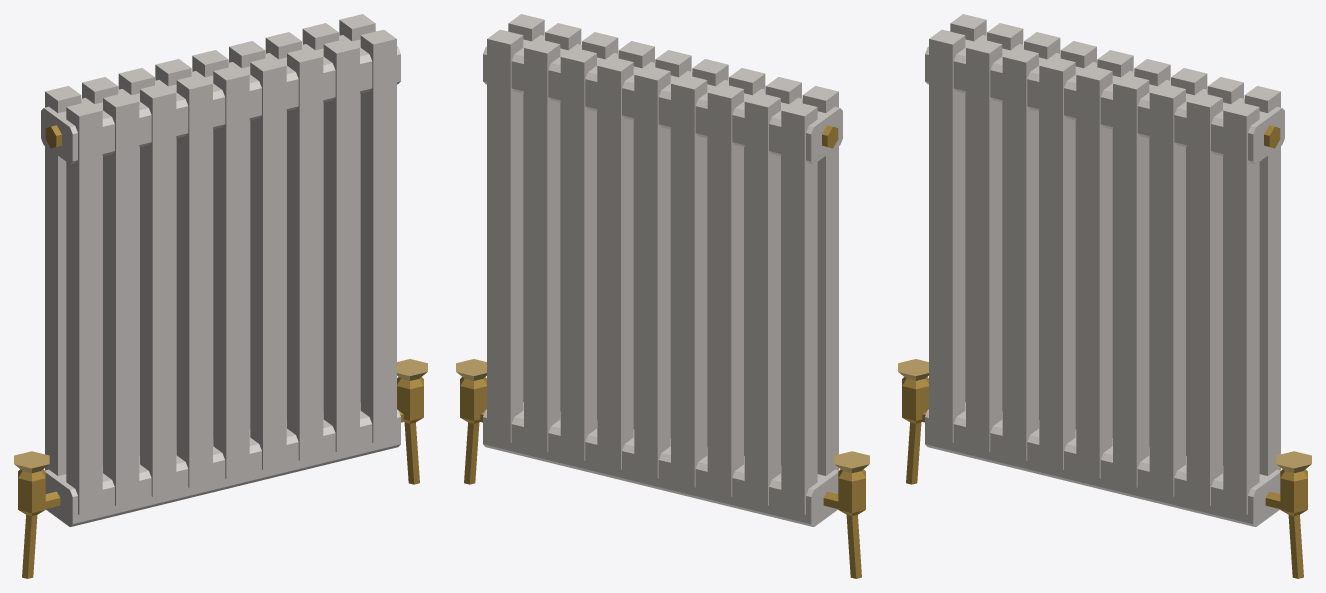
The model's file is column-radiator-18af7e.glb.
3 views of the same model, side by side, from view 1: azimuth 30°, elevation 25°; view 2: azimuth 150°, elevation 25°; view 3: azimuth 330°, elevation 25° (orthographic).
Visible parts, largest first — view 1: column-radiator; view 2: column-radiator; view 3: column-radiator.
Part boxes in pixels (x1,y1,x2,y2): column-radiator: [14, 14, 427, 578]; column-radiator: [456, 14, 869, 578]; column-radiator: [898, 14, 1311, 578].
Bounding box in the file's own units: 0.63 × 0.675 × 0.0897.
